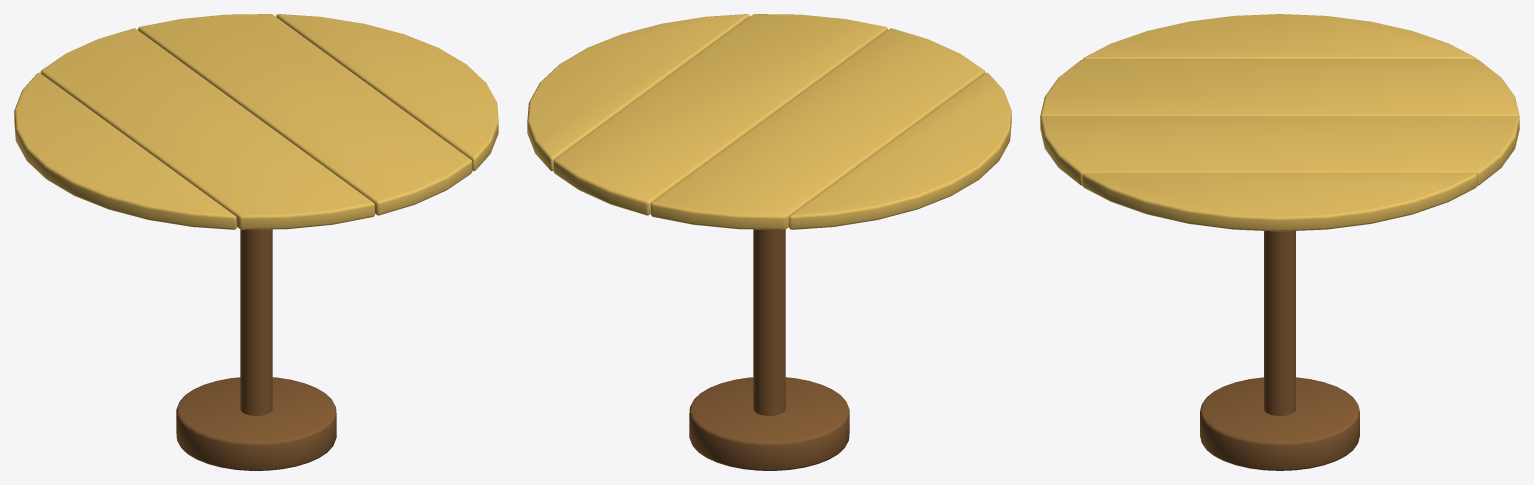
File: coffee_table.glb
3 renders of one model, left to right at view 1: azimuth 30°, elevation 25°; view 2: azimuth 150°, elevation 25°; view 3: azimuth 270°, elevation 25°, orthographic.
Parts seen in each view (by area): view 1: Table.001; view 2: Table.001; view 3: Table.001.
Boxes of the visible parts, x1,y1,x2,y2 form: Table.001: (14, 14, 498, 470); Table.001: (527, 14, 1011, 470); Table.001: (1040, 14, 1519, 470).
Bounding box in the file's own units: 6.06 × 4.45 × 5.99.
Materials: 1 (1 with a texture image).
